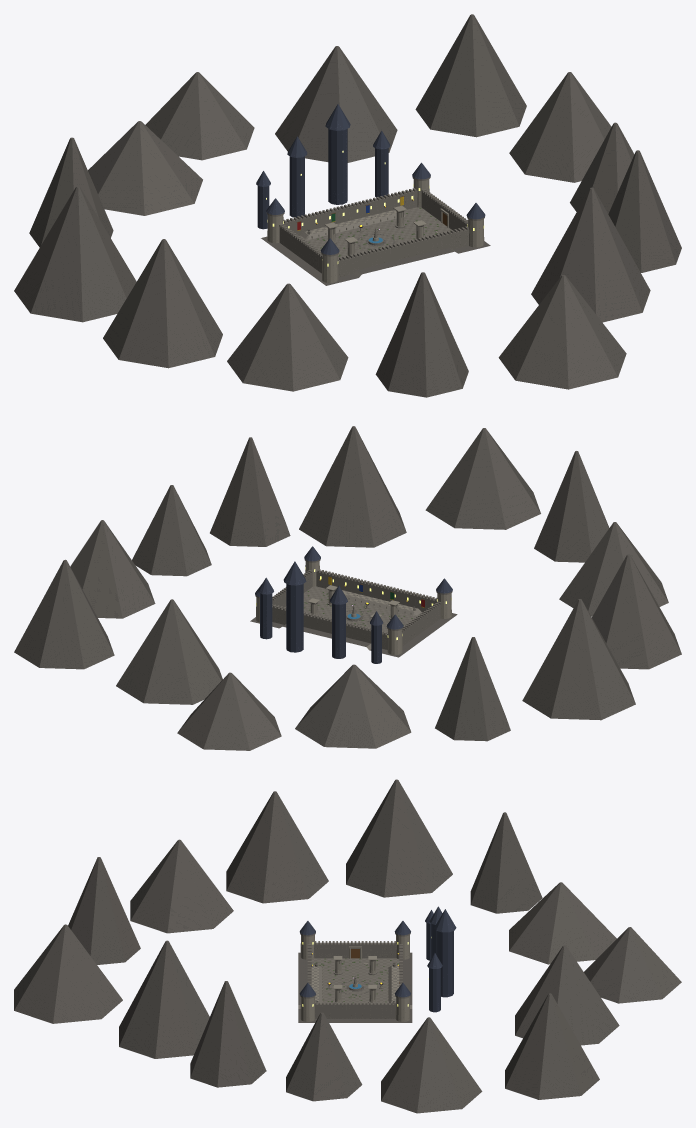
File: castle.glb
The picture shows the model from 3 angles, top to bottom: view 1: azimuth 30°, elevation 25°; view 2: azimuth 150°, elevation 25°; view 3: azimuth 270°, elevation 25°; orthographic projection. The views are drawn at different scales.
Visible parts, largest first — view 1: castle_far, castle_walls, ground; view 2: castle_far, castle_walls, ground; view 3: castle_far, castle_walls, ground.
Boxes of the visible parts, x1=… form: castle_far: x1=14, y1=14, x2=681, y2=397; castle_walls: x1=266, y1=162, x2=485, y2=283; ground: x1=261, y1=207, x2=490, y2=285; castle_far: x1=14, y1=426, x2=681, y2=750; castle_walls: x1=255, y1=546, x2=452, y2=654; ground: x1=250, y1=586, x2=457, y2=657; castle_far: x1=14, y1=779, x2=681, y2=1113; castle_walls: x1=299, y1=921, x2=410, y2=1021; ground: x1=298, y1=952, x2=412, y2=1022.
Bounding box in the file's own units: 359 × 61.05 × 386.
Materials: 1 (1 with a texture image).
